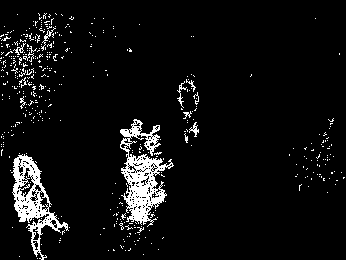person: (9, 152, 67, 260), (176, 72, 204, 144)
